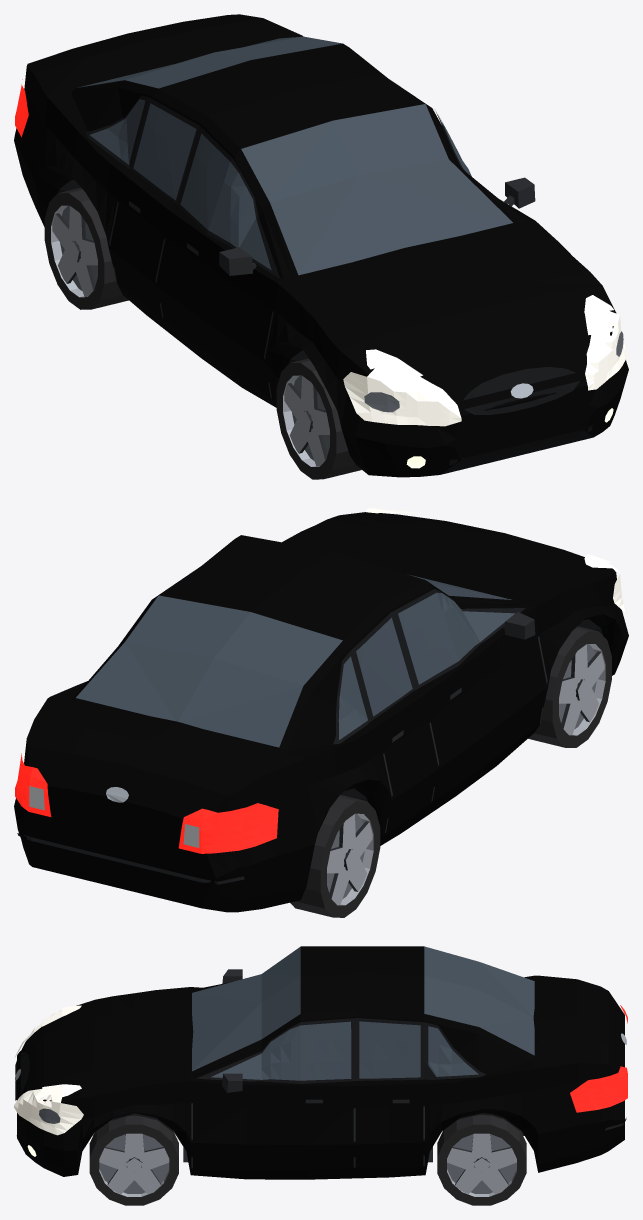
Rendered from au-hawk.lod0.glb.
The picture shows the model from 3 angles, top to bottom: view 1: azimuth 30°, elevation 25°; view 2: azimuth 150°, elevation 25°; view 3: azimuth 270°, elevation 25°; orthographic projection. The views are drawn at different scales.
Parts seen in each view (by area): view 1: core, front, back, door_FR, wheel_RR, wheel_FR, door_RR; view 2: core, back, front, door_FR, wheel_RR, wheel_FR, door_RR; view 3: core, front, back, door_FL, wheel_RL, wheel_FL, door_RL.
Boxes of the visible parts, left/top/right/bottom form: core: left=72, top=36, right=535, bottom=398; front: left=265, top=221, right=628, bottom=477; back: left=14, top=14, right=303, bottom=246; door_FR: left=156, top=210, right=277, bottom=407; wheel_RR: left=44, top=187, right=128, bottom=309; wheel_FR: left=276, top=358, right=361, bottom=479; door_RR: left=108, top=172, right=169, bottom=333; core: left=72, top=535, right=547, bottom=832; back: left=14, top=681, right=391, bottom=912; front: left=282, top=508, right=628, bottom=685; door_FR: left=425, top=607, right=548, bottom=816; wheel_RR: left=290, top=795, right=380, bottom=917; wheel_FR: left=528, top=626, right=611, bottom=747; door_RR: left=378, top=694, right=438, bottom=845; core: left=183, top=946, right=534, bottom=1168; front: left=14, top=987, right=190, bottom=1176; back: left=425, top=975, right=627, bottom=1173; door_FL: left=190, top=1081, right=354, bottom=1179; wheel_RL: left=437, top=1115, right=526, bottom=1205; wheel_FL: left=89, top=1115, right=178, bottom=1205; door_RL: left=354, top=1083, right=425, bottom=1178.
Size of what is drawn, in the model's own units: 2.16 by 1.64 by 5.03.
1 material, 1 textured.
